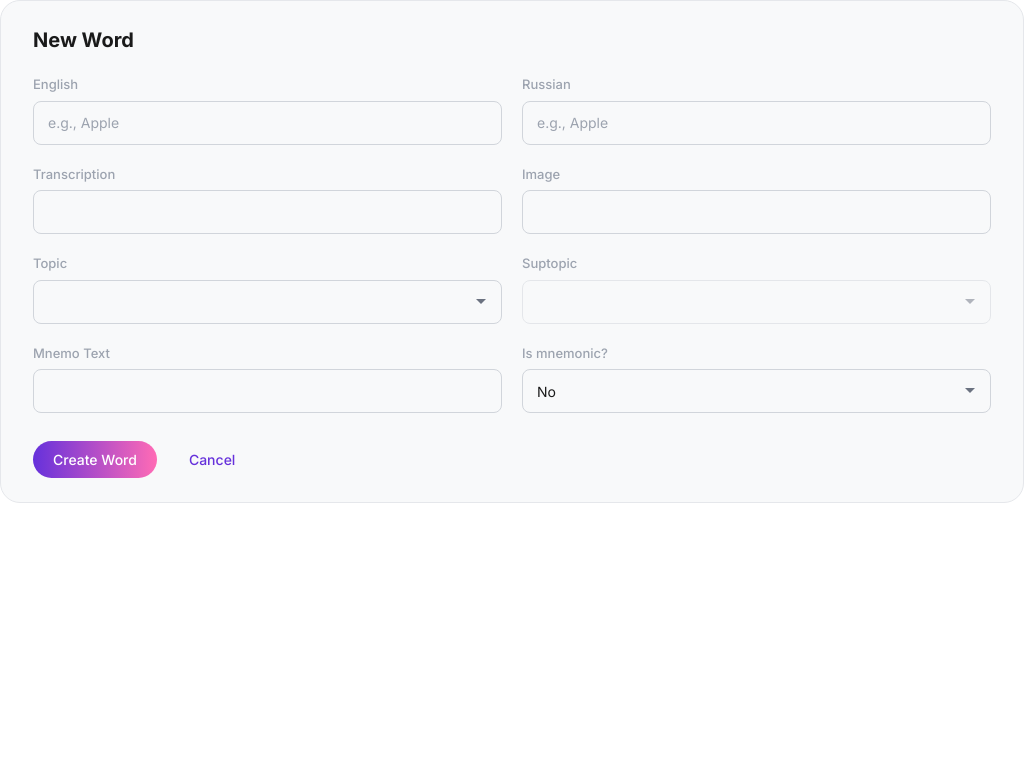
Test: AdminWordForm › shows validation errors when submitted empty
Step 1. Click the button "Create Word" → (95, 460), box [33,441,157,478]
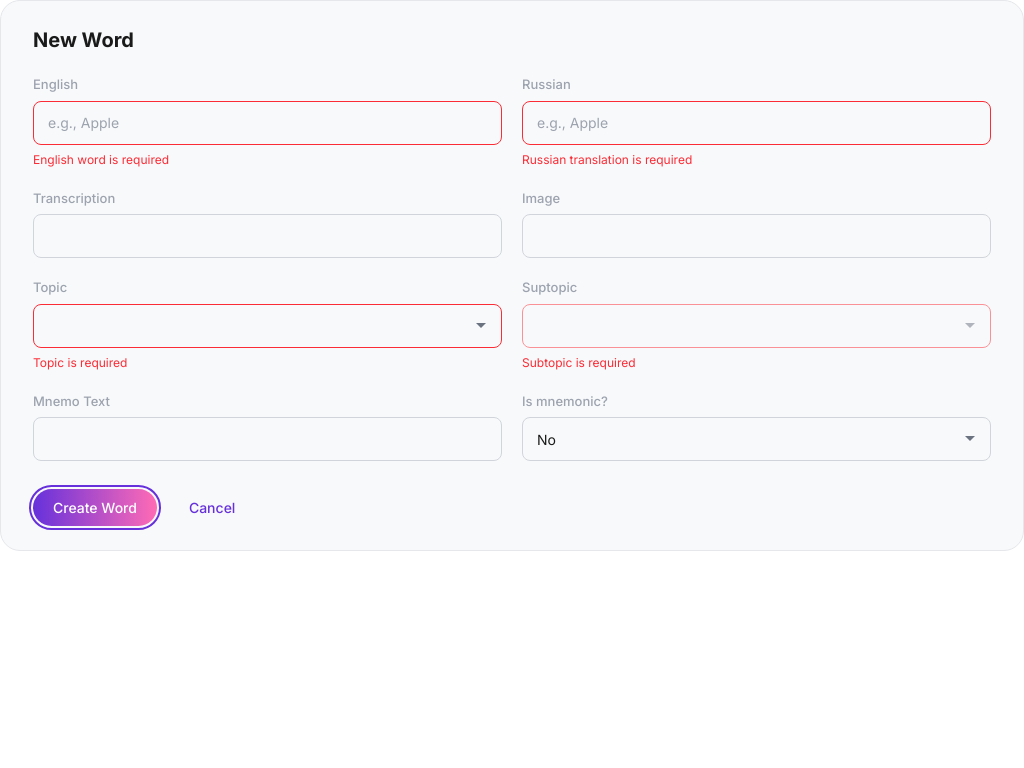
Check: the text "English word is required" is shown, box [33,152,169,166]
Check: the text "Russian translation is required" is shown, box [522,152,692,166]
Check: the text "Topic is required" is shown, box [33,354,127,370]
